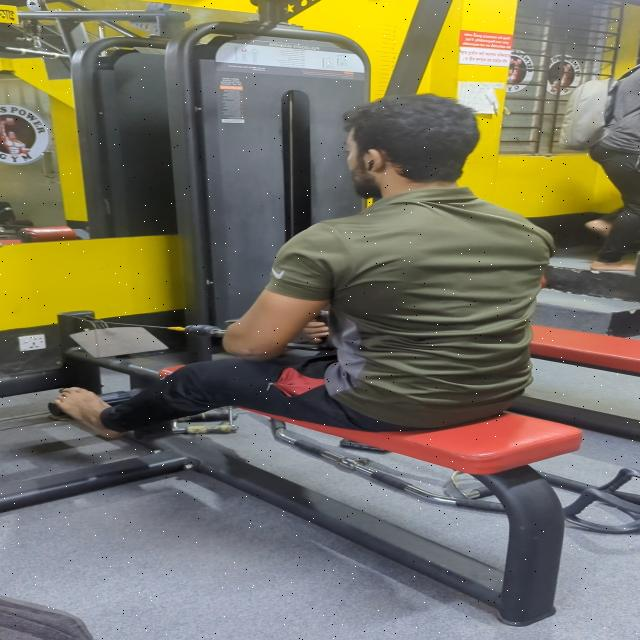Normal_RowingMachineExercise: (0, 89, 624, 474)
